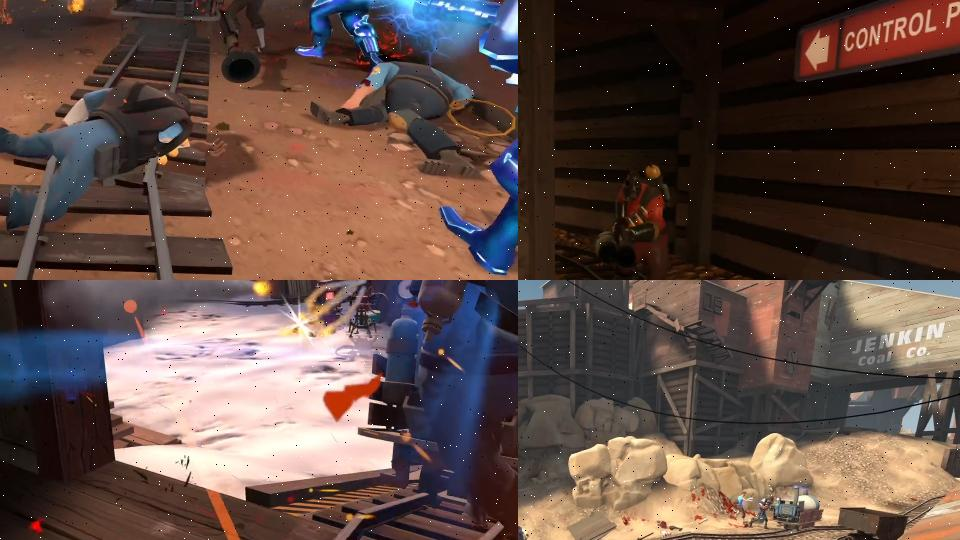Enemy: (0, 81, 227, 264), (411, 280, 518, 540), (309, 51, 516, 180), (269, 0, 408, 68), (593, 161, 672, 280), (202, 0, 280, 54), (748, 493, 776, 531), (733, 490, 756, 528), (518, 518, 542, 540)
